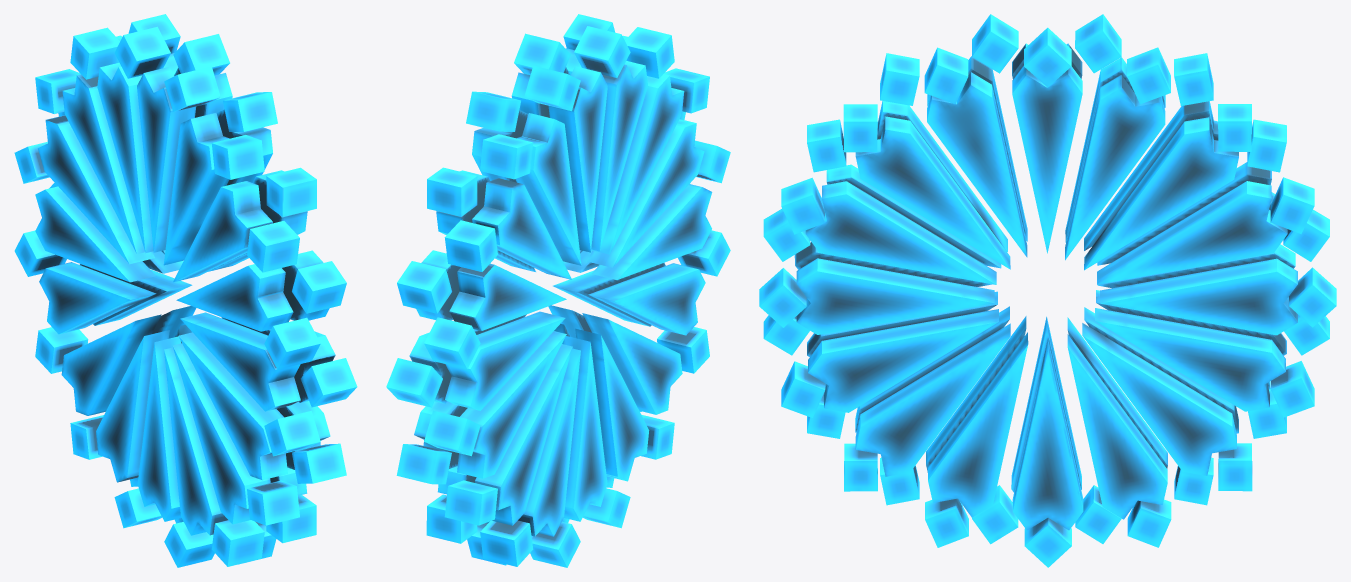
The model's file is Shieldholo.fbx.
3 renders of one model, left to right at view 1: azimuth 30°, elevation 25°; view 2: azimuth 150°, elevation 25°; view 3: azimuth 270°, elevation 25°, orthographic. The views are drawn at different scales.
Visible parts, largest first — view 1: Cube.121_cell.002; view 2: Cube.121_cell.002; view 3: Cube.121_cell.002.
Part boxes in pixels (x1,y1,x2,y2): Cube.121_cell.002: [14, 14, 357, 567]; Cube.121_cell.002: [386, 14, 730, 567]; Cube.121_cell.002: [759, 14, 1336, 567].
Size of the model in its own units: 35.74 by 250 by 250.
